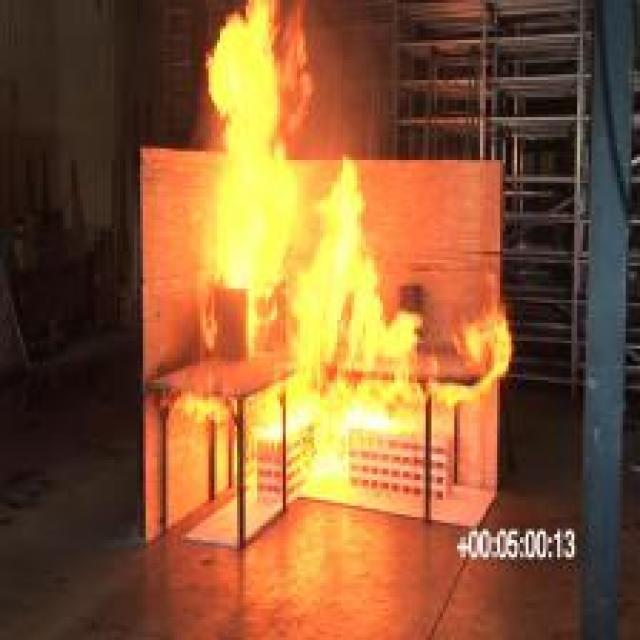Fire: (202, 0, 292, 280), (293, 167, 408, 367), (271, 370, 414, 435), (433, 327, 511, 402), (312, 434, 349, 481)
